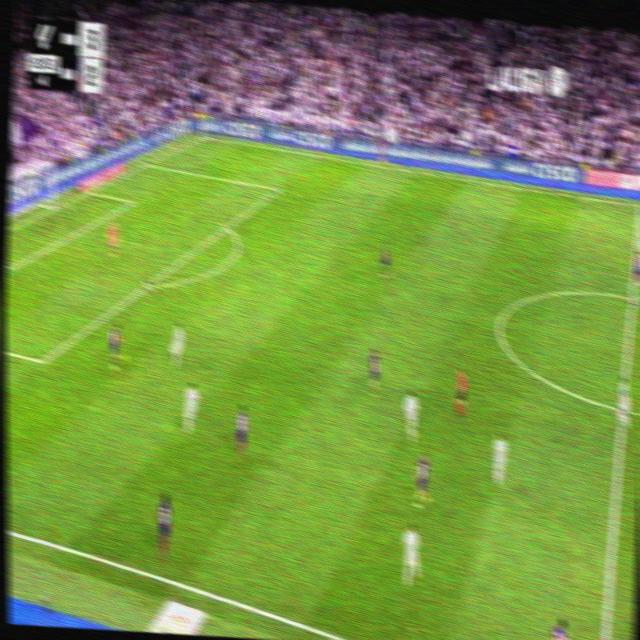bigarea_bottom_inner: (35, 348, 50, 372)
bigarea_top_inner: (272, 182, 283, 196)
bigarea_top_outter: (140, 156, 152, 169)
bottom_arc_area_intersection: (141, 277, 154, 294)
corner: (196, 132, 207, 141)
halfcircle_top: (624, 284, 640, 309)
midline_top_intersection: (633, 197, 640, 213)
smallarea_bottom_inner: (4, 258, 19, 276)
smallarea_top_inner: (129, 196, 137, 206)
top_arc_area_intersection: (220, 219, 232, 234)
